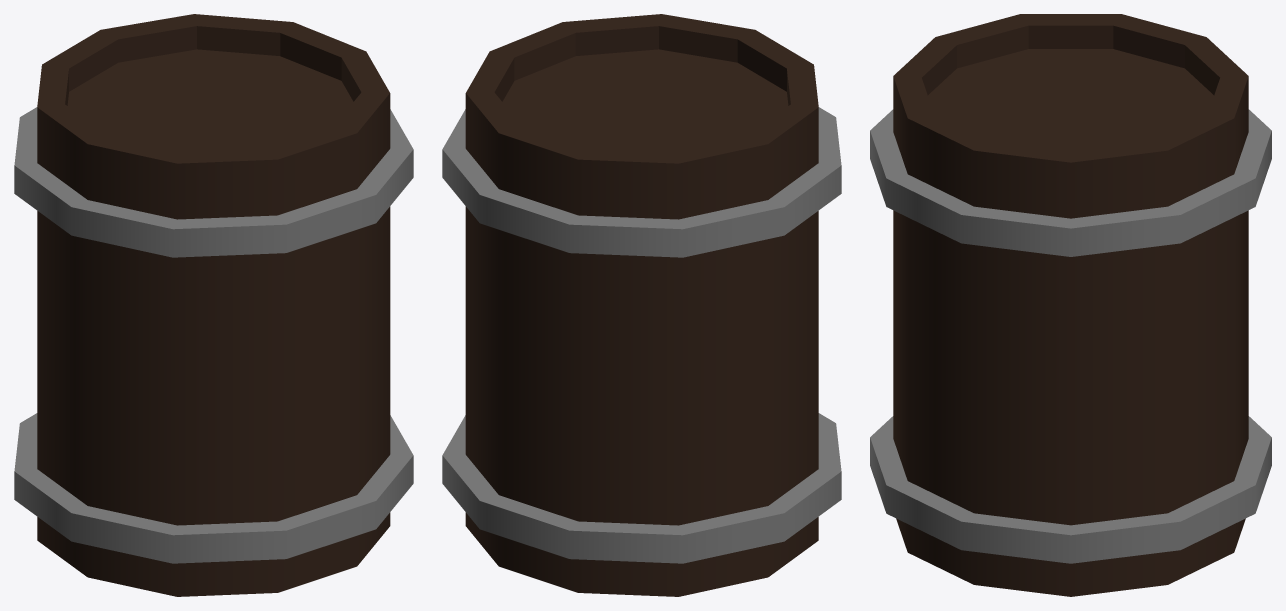
The model's file is SM_barrel.fbx.
3 views of the same model, side by side, from view 1: azimuth 30°, elevation 25°; view 2: azimuth 150°, elevation 25°; view 3: azimuth 270°, elevation 25° (orthographic).
Parts seen in each view (by area): view 1: Cylinder013; view 2: Cylinder013; view 3: Cylinder013.
Part boxes in pixels (box(x1,y1,x2,y2)): Cylinder013: box(14, 14, 413, 596); Cylinder013: box(442, 14, 841, 596); Cylinder013: box(870, 14, 1271, 596).
Size of the model in its own units: 34.32 by 41.34 by 34.67.
